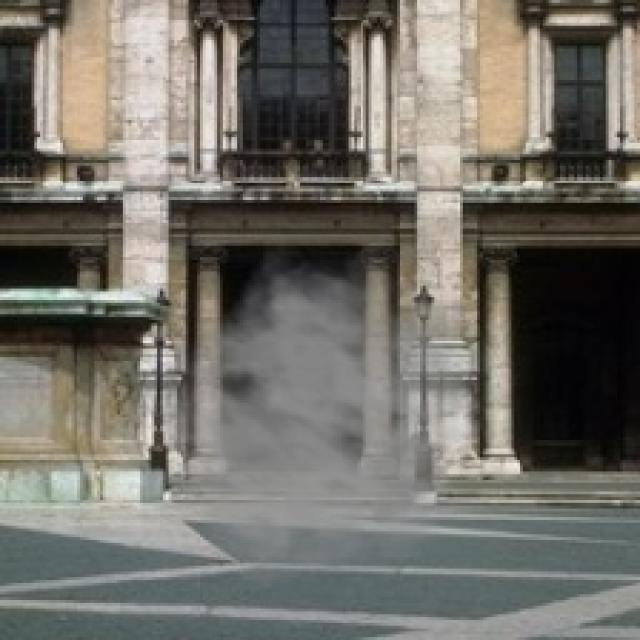smoke: (154, 234, 512, 589)
